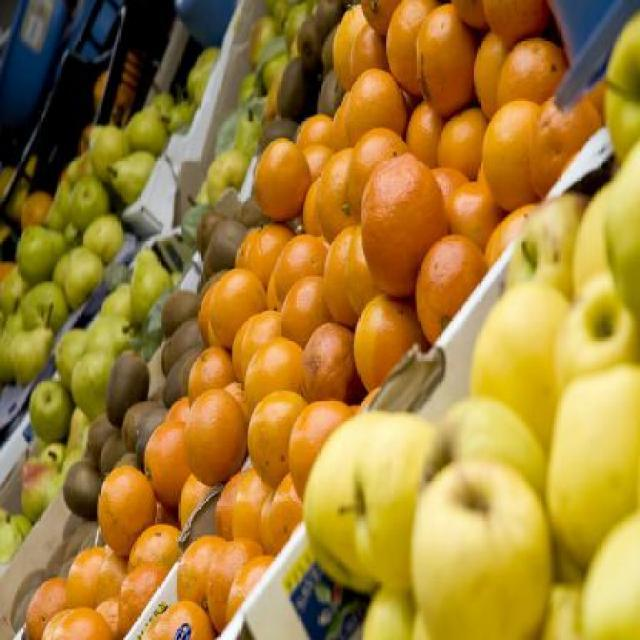Orange: (358, 153, 450, 284), (480, 101, 542, 210), (290, 399, 358, 493), (416, 3, 474, 112), (350, 298, 418, 386), (411, 237, 478, 326), (530, 90, 592, 186), (186, 384, 248, 472), (250, 391, 312, 478), (94, 464, 150, 548), (208, 268, 269, 344), (383, 0, 431, 94), (250, 138, 310, 208), (300, 314, 356, 389), (344, 73, 407, 136), (497, 36, 563, 96), (227, 554, 278, 628), (208, 543, 255, 623), (326, 226, 368, 314), (144, 426, 190, 500), (483, 0, 544, 55), (442, 182, 498, 240), (280, 272, 326, 340), (316, 152, 356, 225), (474, 31, 509, 114), (439, 100, 481, 168), (148, 598, 214, 640), (278, 236, 322, 299), (235, 225, 280, 284), (118, 562, 162, 622), (334, 0, 363, 89), (178, 532, 214, 598), (232, 470, 262, 548), (131, 522, 184, 566), (27, 573, 62, 639), (73, 550, 115, 601), (97, 555, 148, 597), (405, 110, 443, 166), (272, 481, 305, 544), (351, 27, 384, 90), (186, 348, 228, 396), (41, 612, 107, 640), (358, 0, 404, 35), (184, 470, 208, 522), (218, 473, 237, 535), (262, 493, 280, 556), (451, 0, 487, 29), (98, 595, 122, 637), (232, 378, 251, 407)
